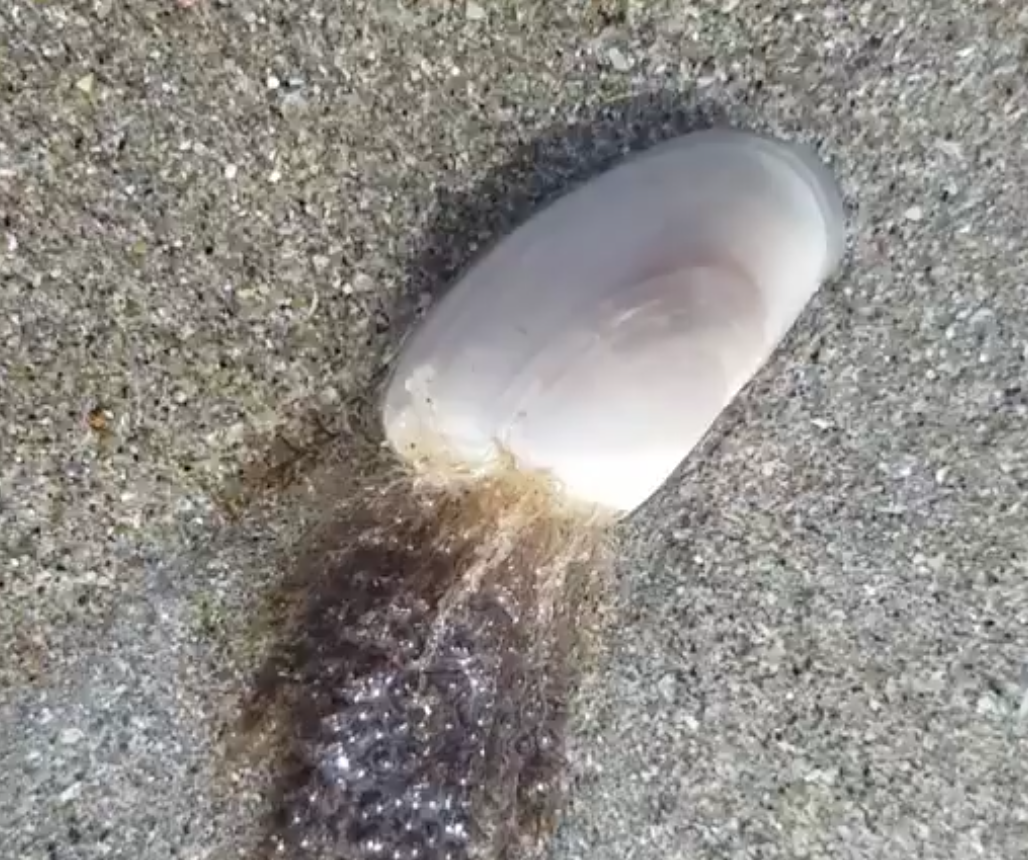tuatua: (367, 117, 845, 533)
